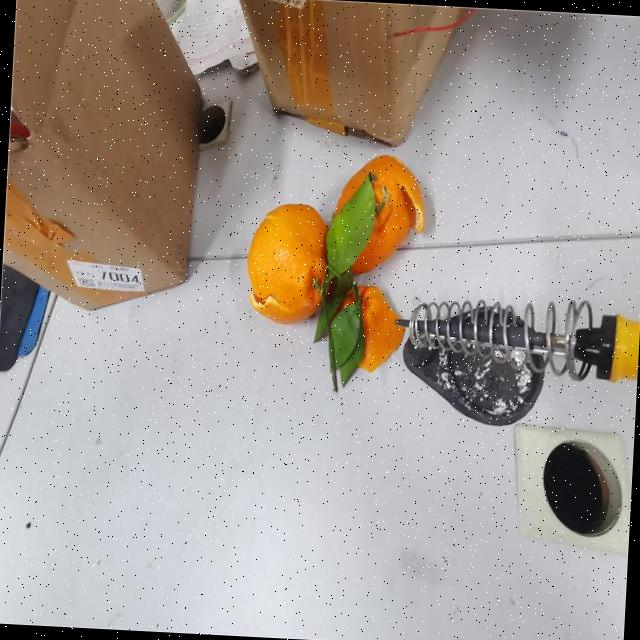orange-peel: (330, 150, 428, 278), (243, 199, 332, 325)
